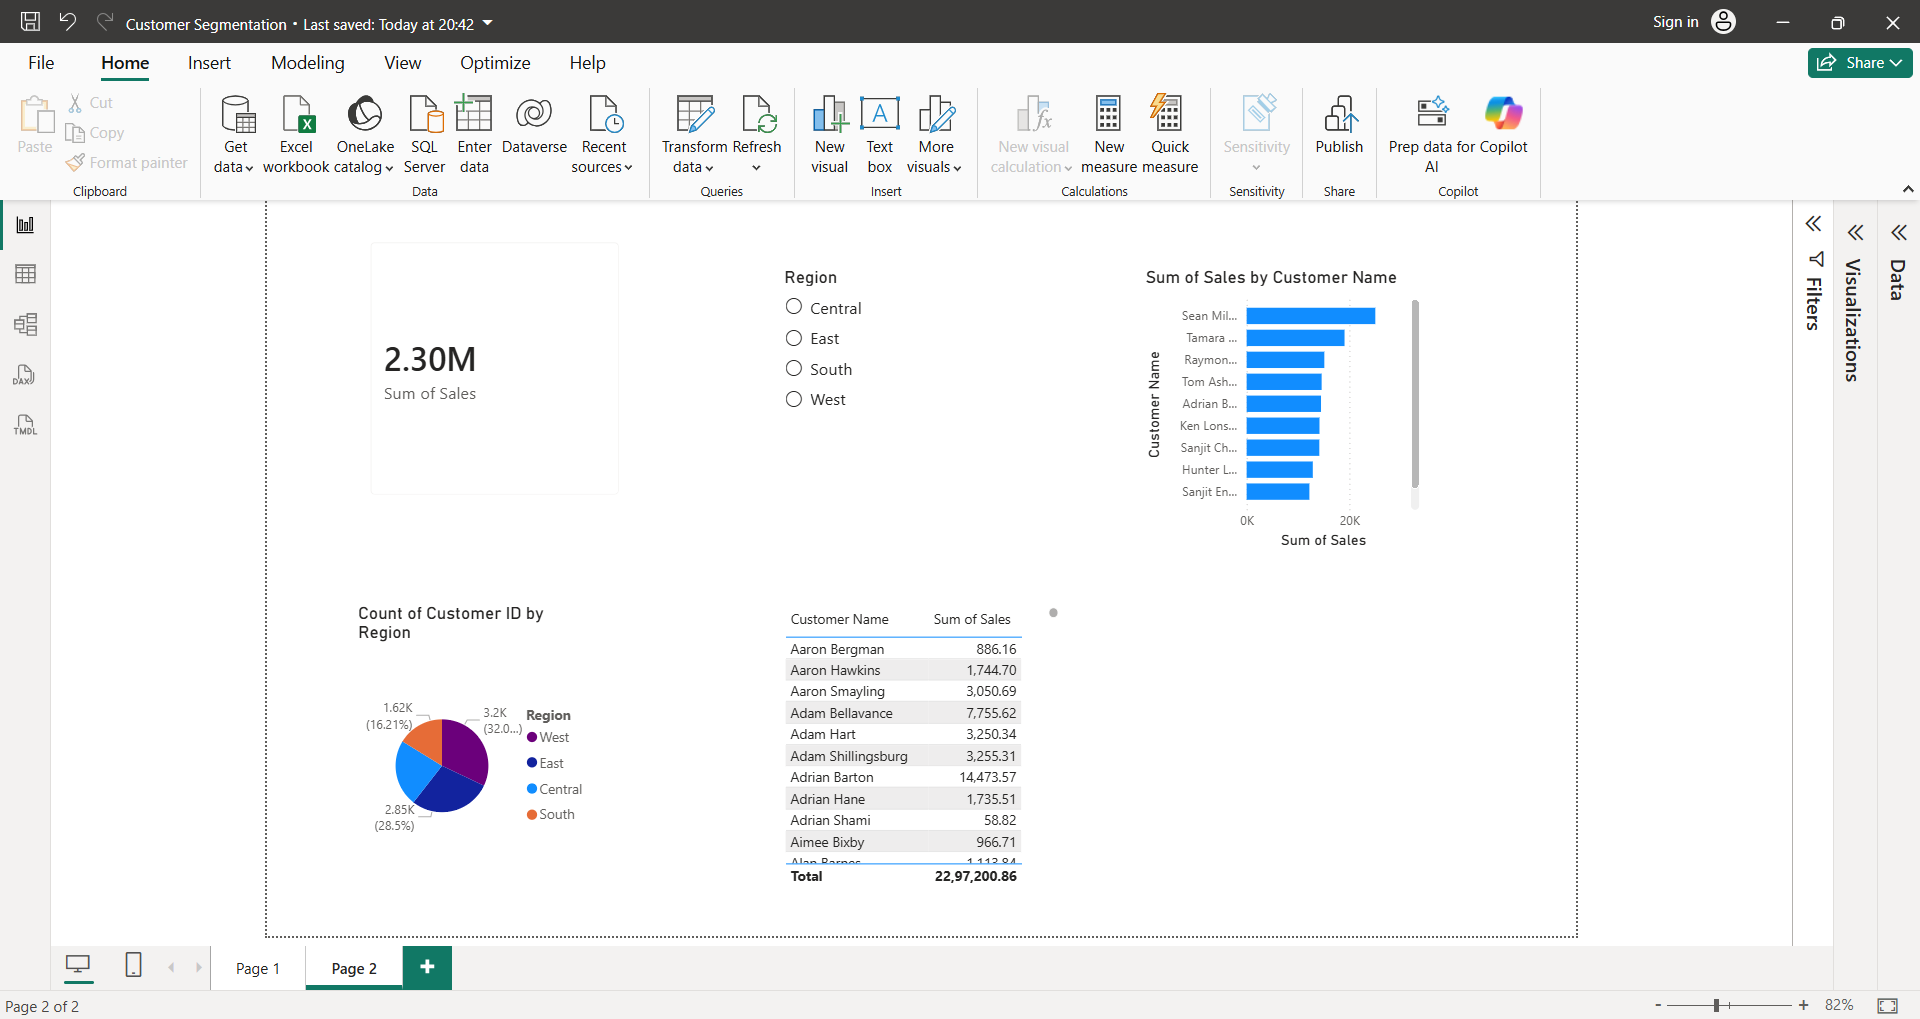

The page's visual inventory and layout, read from the dashboard file:
{"tool":"powerbi","page":{"name":"Page 2","canvas":[1280,720],"ordinal":1},"visuals":[{"type":"tableEx","fields":{"Values":["Sample - Superstore.Customer Name","Sum(Sample - Superstore.Sales)"]},"box":[501.2,393.3,277.6,281.4],"z":0},{"type":"clusteredBarChart","fields":{"Category":["Sample - Superstore.Customer Name"],"Y":["Sum(Sample - Superstore.Sales)"]},"box":[854.8,64.8,277.6,281.3],"z":1},{"type":"listSlicer","fields":{"Values":["Sample - Superstore.Region"]},"box":[501.4,64.8,277.6,281.3],"z":2},{"type":"pieChart","fields":{"Category":["Sample - Superstore.Region"],"Y":["CountNonNull(Sample - Superstore.Customer ID)"]},"box":[84.8,393.3,239,281.4],"z":3},{"type":"cardVisual","fields":{"Data":["Sum(Sample - Superstore.Sales)"]},"box":[84.4,24.5,277.6,281.3],"z":4}]}

Visuals, with their boxes on the page's 1280x720 design canvas (x1, y1, x2, y2). These are canvas units, not pixel positions in the 1920x1019 screenshot, which may show the page scaled, cropped or inside an application window:
tableEx - Sample - Superstore.Customer Name x Sum(Sample - Superstore.Sales): bbox=(501, 393, 779, 675)
clusteredBarChart - Sample - Superstore.Customer Name x Sum(Sample - Superstore.Sales): bbox=(855, 65, 1132, 346)
listSlicer - Sample - Superstore.Region: bbox=(501, 65, 779, 346)
pieChart - Sample - Superstore.Region x CountNonNull(Sample - Superstore.Customer ID): bbox=(85, 393, 324, 675)
cardVisual - Sum(Sample - Superstore.Sales): bbox=(84, 24, 362, 306)
